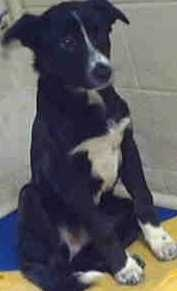Dog: (5, 0, 153, 258)
